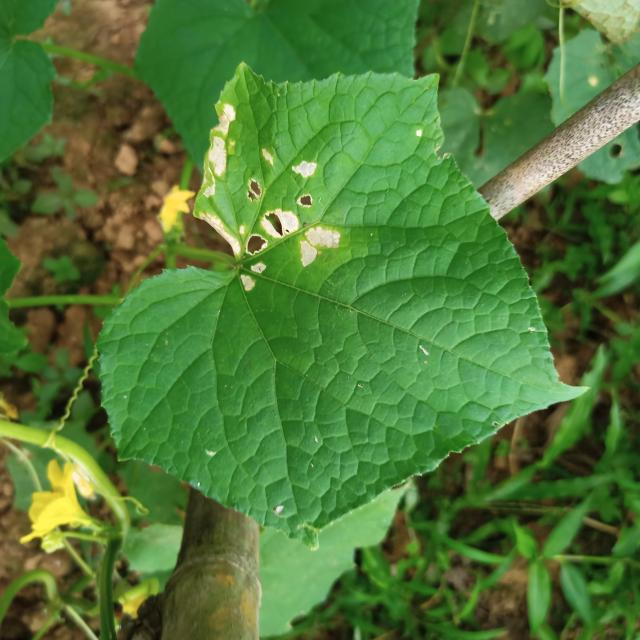disease_cucumber: (198, 102, 343, 291)
